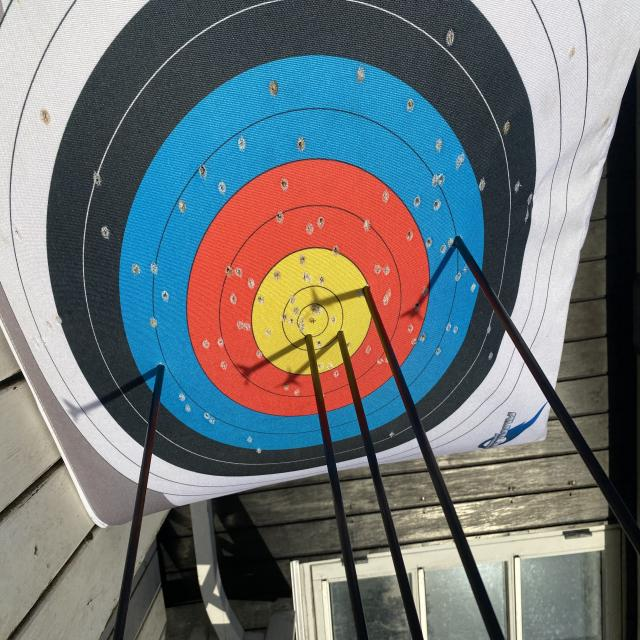Arrow_Blue: (148, 347, 175, 398), (448, 228, 470, 266)
Arrow_Yellow: (295, 325, 323, 364), (353, 279, 387, 310), (332, 319, 357, 356)
